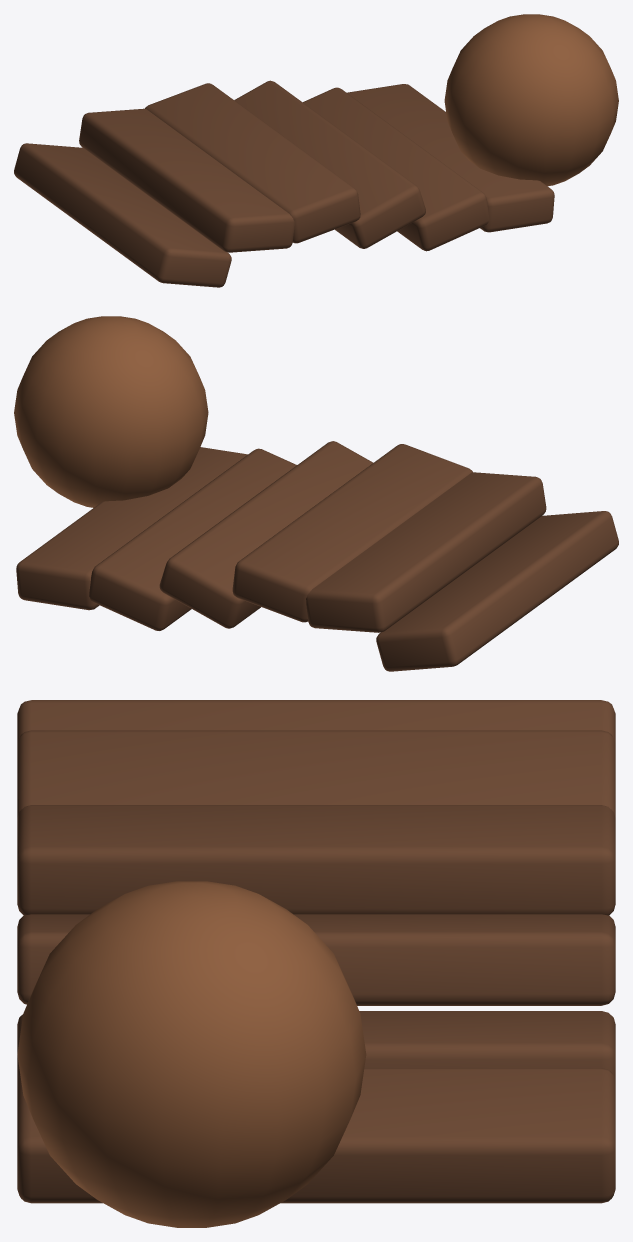
File: borracha.glb
3 views of the same model, one above another, from view 1: azimuth 30°, elevation 25°; view 2: azimuth 150°, elevation 25°; view 3: azimuth 270°, elevation 25° (orthographic). The views are drawn at different scales.
Parts seen in each view (by area): view 1: borracha; view 2: borracha; view 3: borracha.
Part boxes in pixels (<box>): borracha: <box>14,14,618,287</box>; borracha: <box>14,316,618,671</box>; borracha: <box>17,700,615,1227</box>.
Size of the model in its own units: 1.63 by 0.5271 by 0.864.
